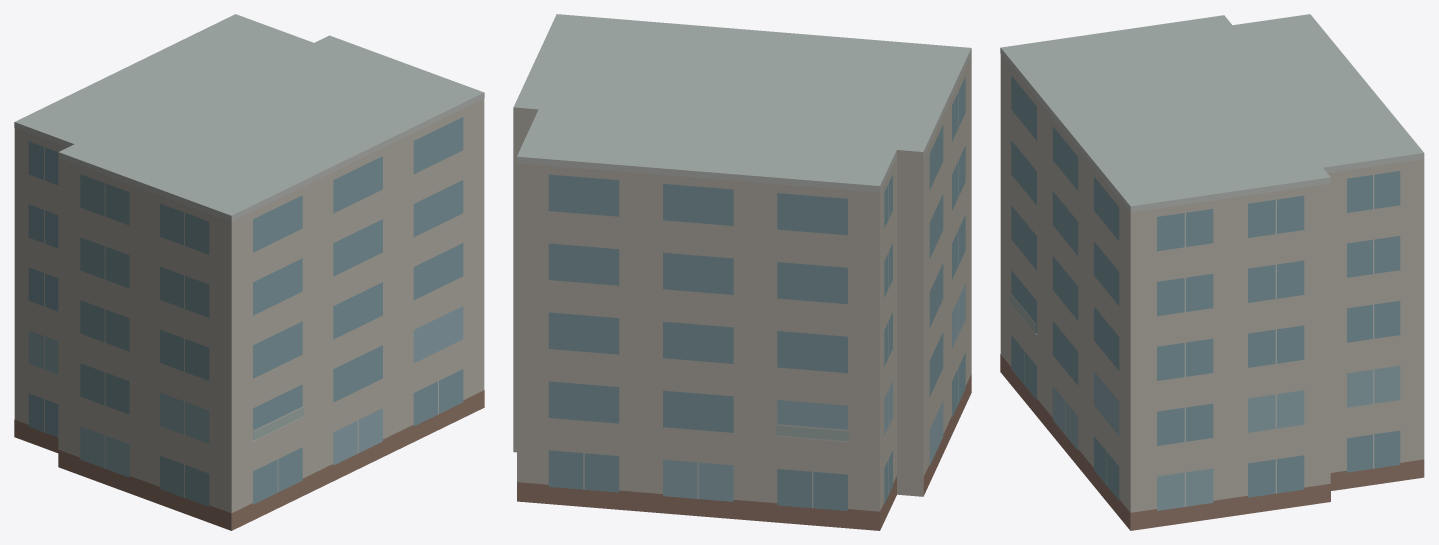
The model's file is survey-upis-32989737.glb.
3 renders of one model, left to right at view 1: azimuth 30°, elevation 25°; view 2: azimuth 150°, elevation 25°; view 3: azimuth 270°, elevation 25°, orthographic. The views are drawn at different scales.
Parts seen in each view (by area): view 1: survey-upis-32989737.tmp; view 2: survey-upis-32989737.tmp; view 3: survey-upis-32989737.tmp.
Part boxes in pixels (bbox=[...]): survey-upis-32989737.tmp: bbox=[14, 14, 484, 530]; survey-upis-32989737.tmp: bbox=[513, 14, 971, 530]; survey-upis-32989737.tmp: bbox=[1000, 14, 1424, 530].
Bounding box in the file's own units: 16.53 × 13 × 15.4.
